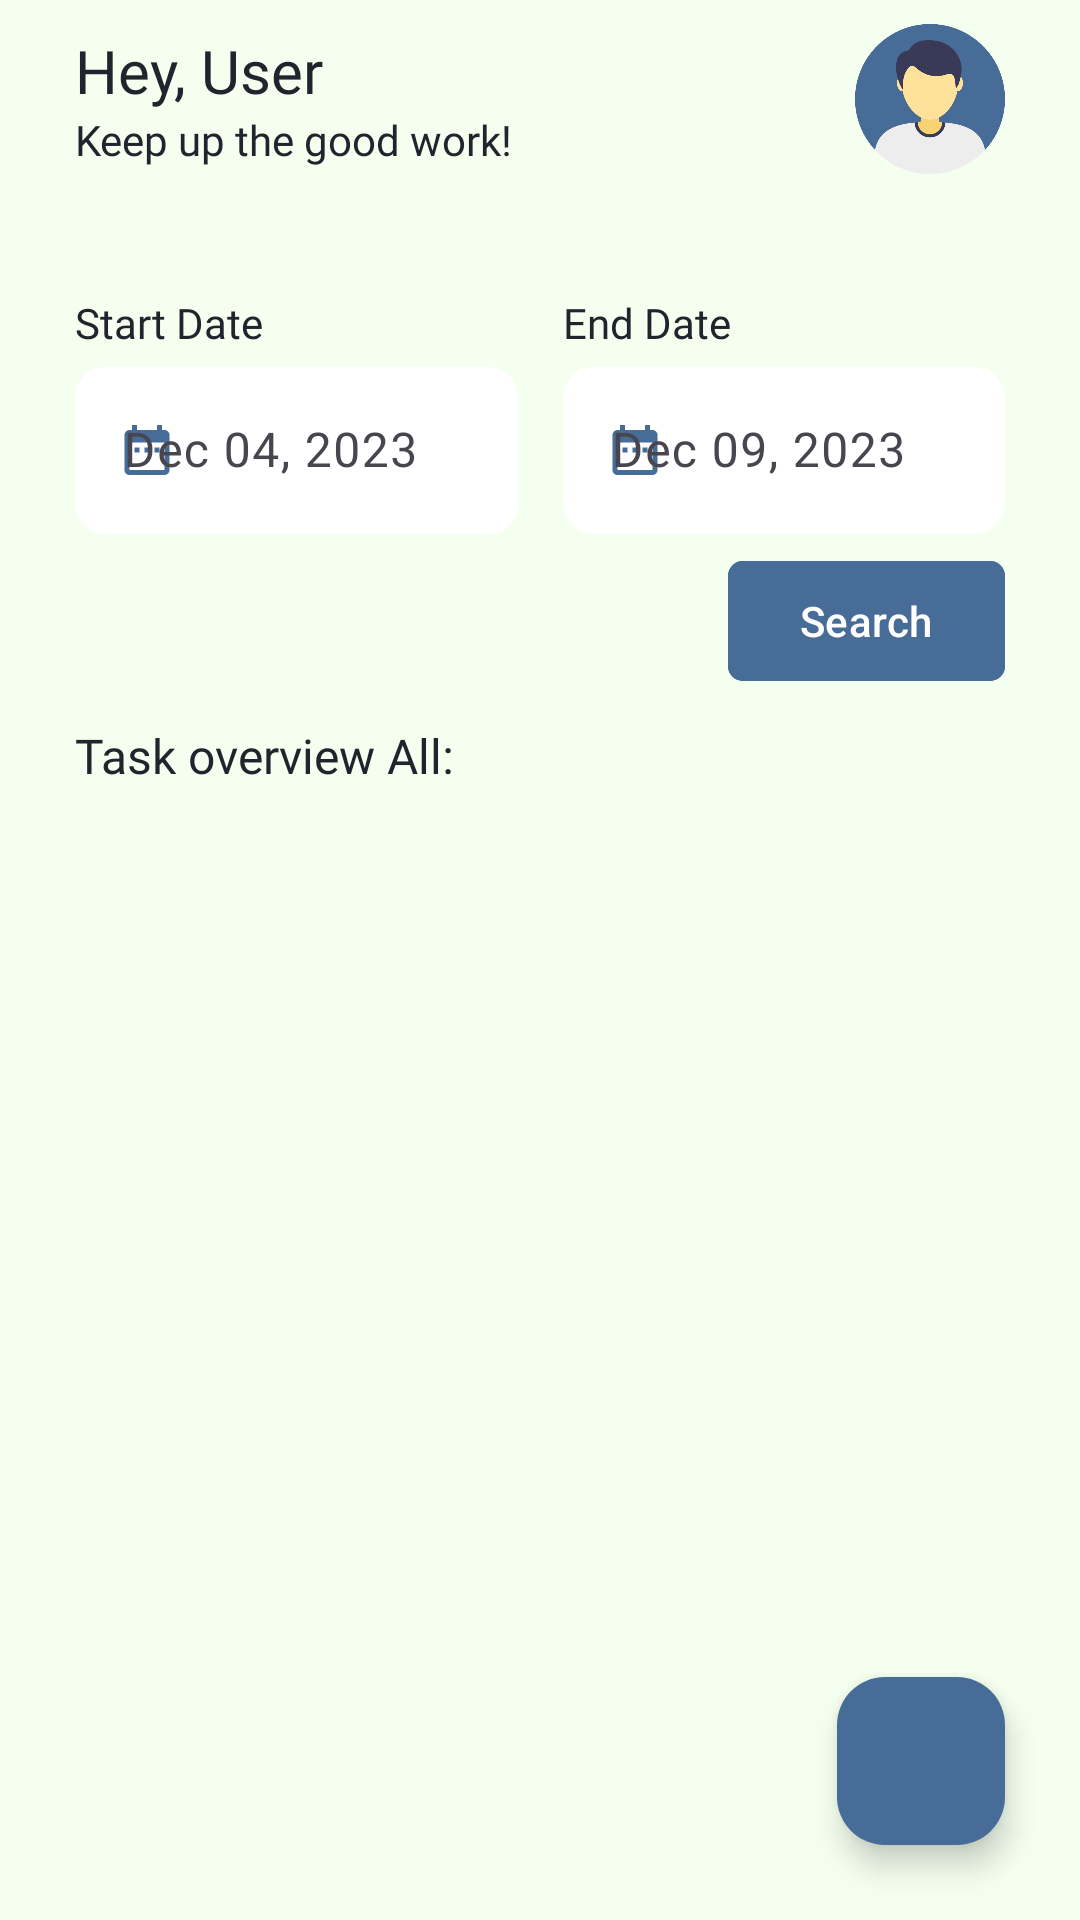

Named icons in this screenshot (1080px x 1920px) and their centers, (x,y):
person: (930,87)
